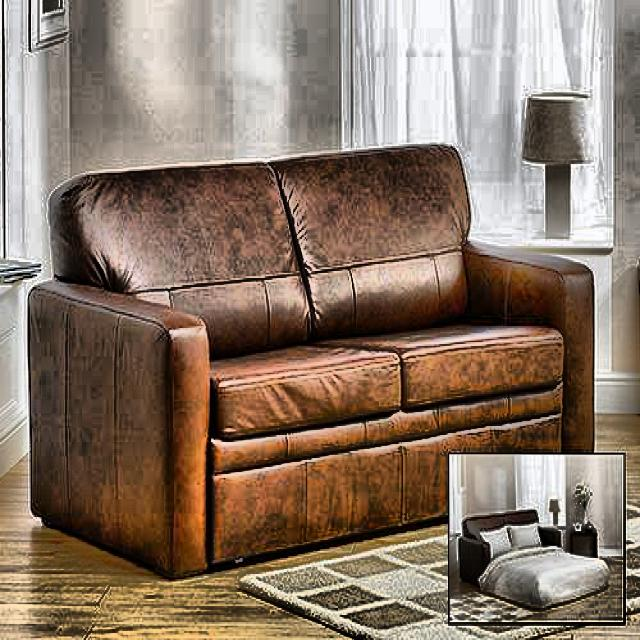sofa: (26, 144, 594, 583)
